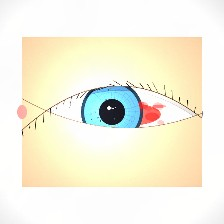hemorrhage_spot: (85, 79, 173, 150)
